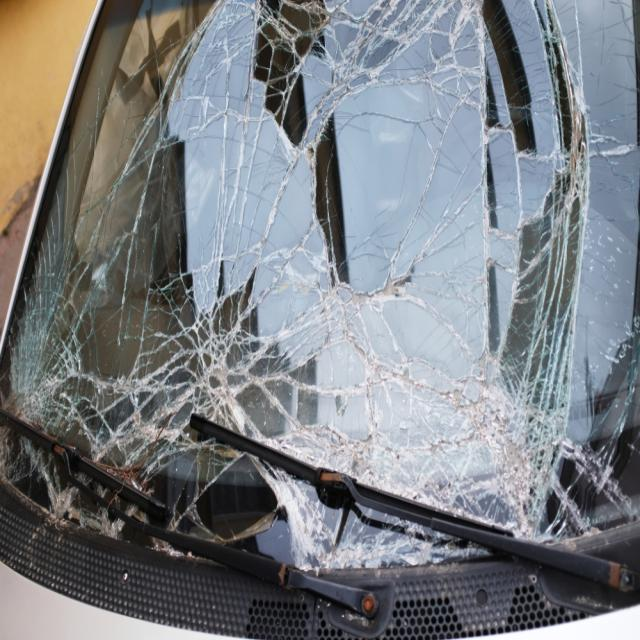glass shatter: (0, 0, 640, 572)
